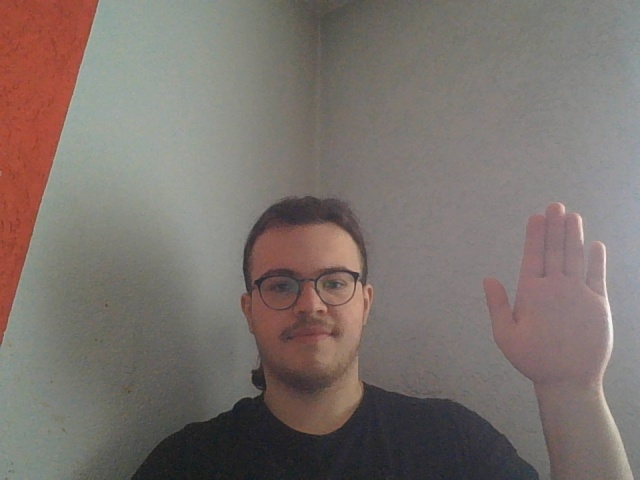Hello: (480, 202, 616, 380)
